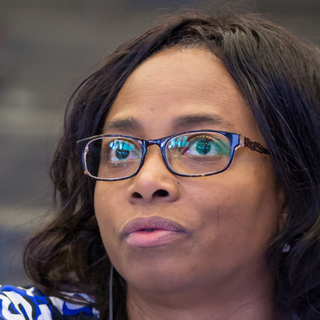eye: (181, 133, 221, 159), (111, 135, 147, 161)
